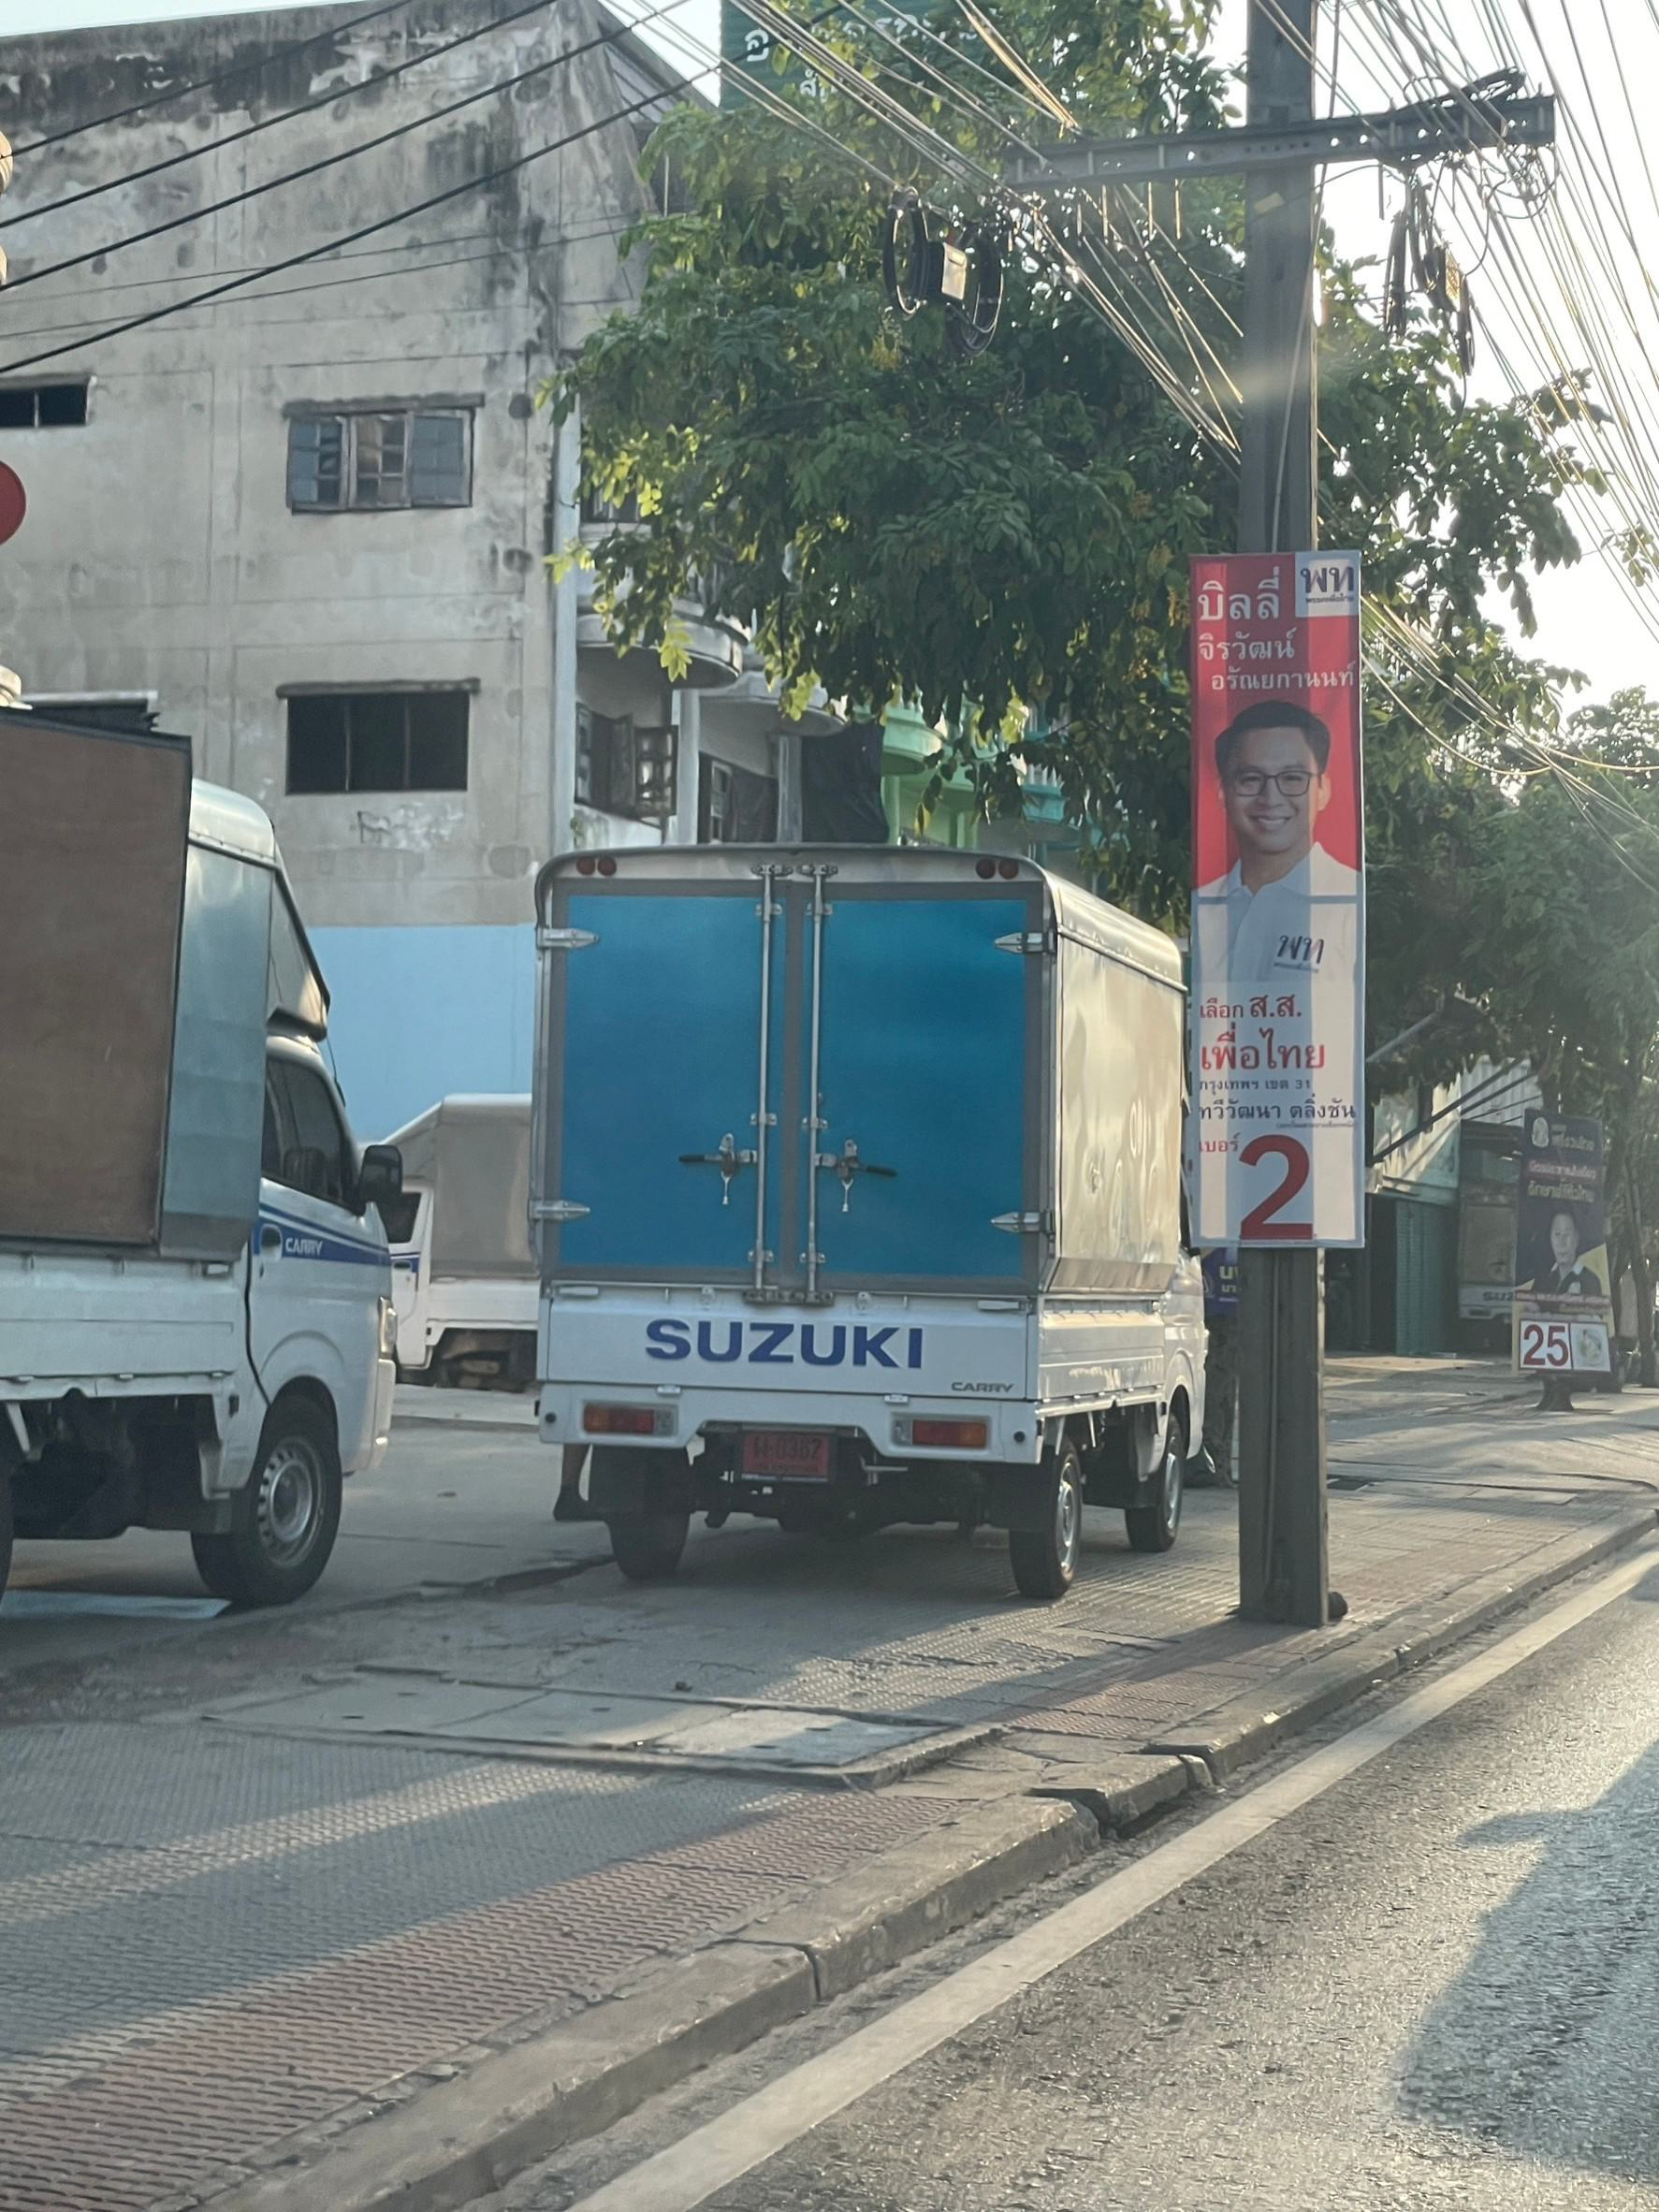Banner: (1183, 556, 1359, 1237), (1516, 1101, 1612, 1383)
